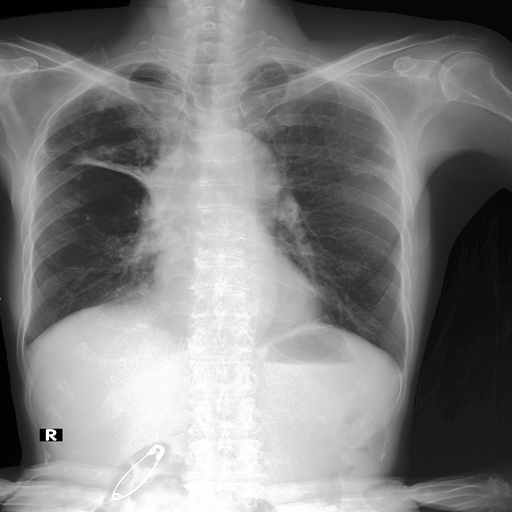Calcification: (16, 336, 38, 355)
Consolidation: (206, 132, 274, 199)
Infiltration: (73, 147, 151, 186)
Pleural effusion: (16, 336, 38, 355)
Pneumothorax: (78, 84, 151, 163), (62, 148, 152, 197), (88, 82, 131, 121), (343, 160, 388, 177)
